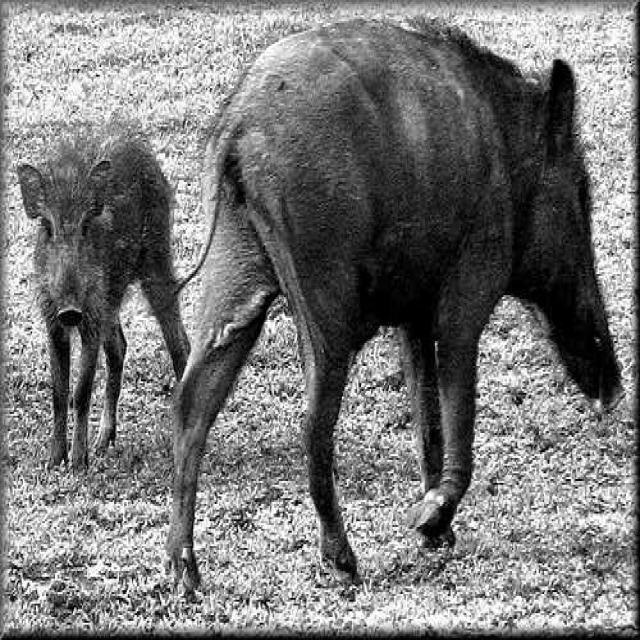boar: (165, 19, 621, 586), (17, 134, 187, 466)
